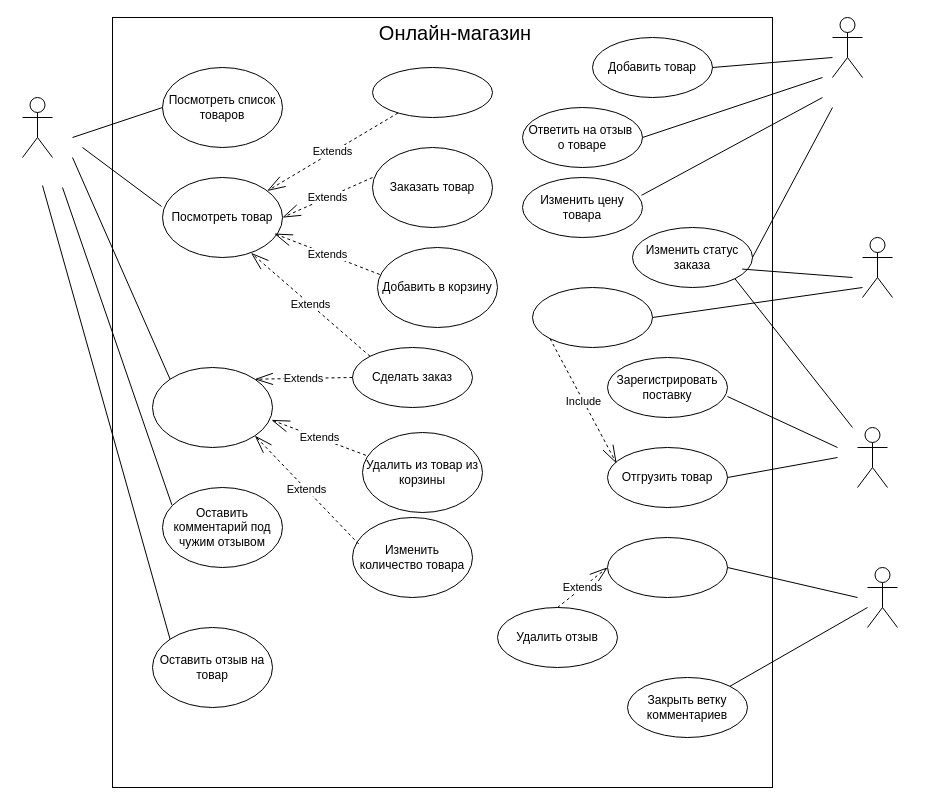
Some shapes in this 936 by 805 pixel diagram are drawn without their labels. The shapes that lost their labels are listed below. From the top down, each one's box as (x1, y1, x2, y2) in pixels, then its label:
(832, 16, 862, 78): Менеджер
(372, 66, 492, 118): Добавить в избранное
(22, 96, 52, 158): Клиент
(862, 236, 892, 298): Курьер
(532, 286, 652, 348): Принять товар
(152, 366, 272, 448): Посмотреть корзину
(856, 426, 888, 488): Работник склада
(606, 536, 728, 598): Проверить отзыв
(866, 566, 898, 628): Модератор
